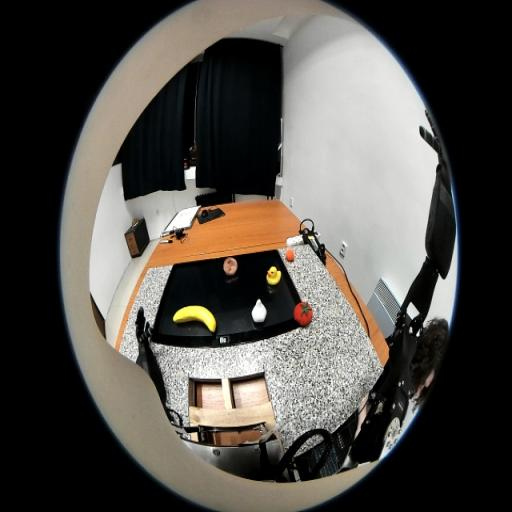Banana: (173, 305, 217, 333)
Duck: (266, 266, 282, 285)
LeftHand: (137, 331, 149, 346)
Mushroom: (223, 257, 238, 276)
Onion: (251, 299, 267, 322)
Orange: (286, 248, 294, 262)
Tomato: (293, 301, 313, 327)
